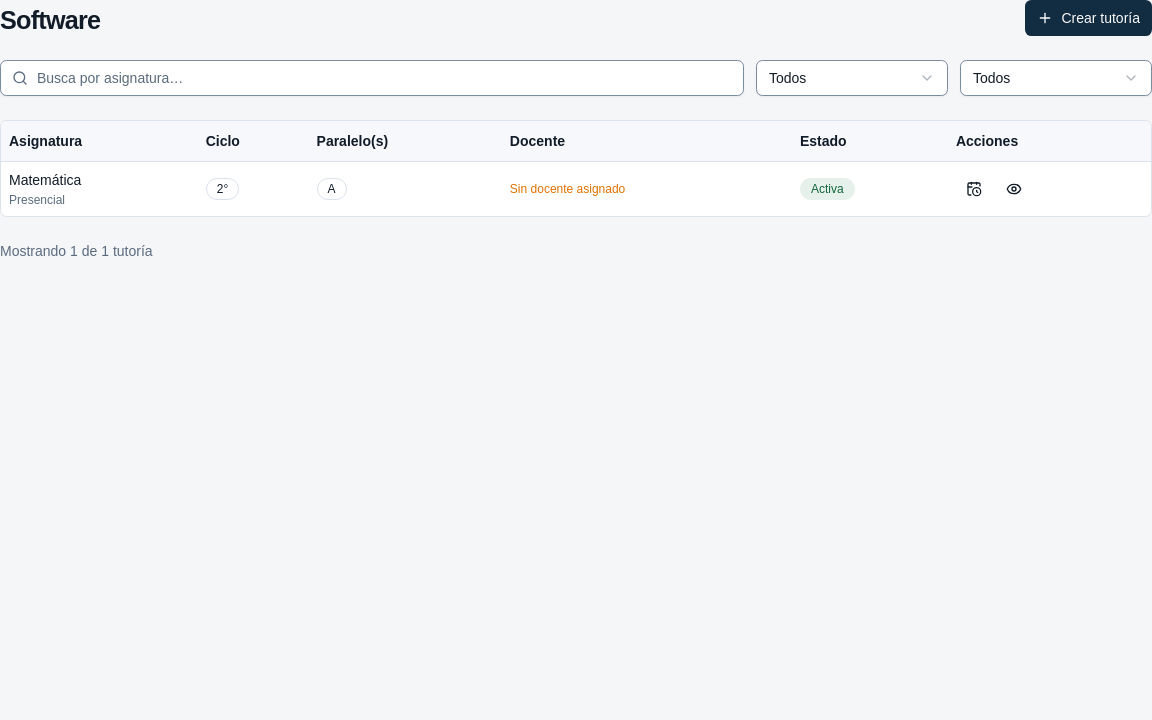
Test: Coordinación de tutorías › filtra tutorías por ciclo y estado, y abre el detalle al supervisar
Check: the text "Matemática" is shown, box [9, 172, 81, 188]
Click the dropdown named "Filtrar por Ciclo".
click(852, 78)  # box [756, 60, 948, 96]
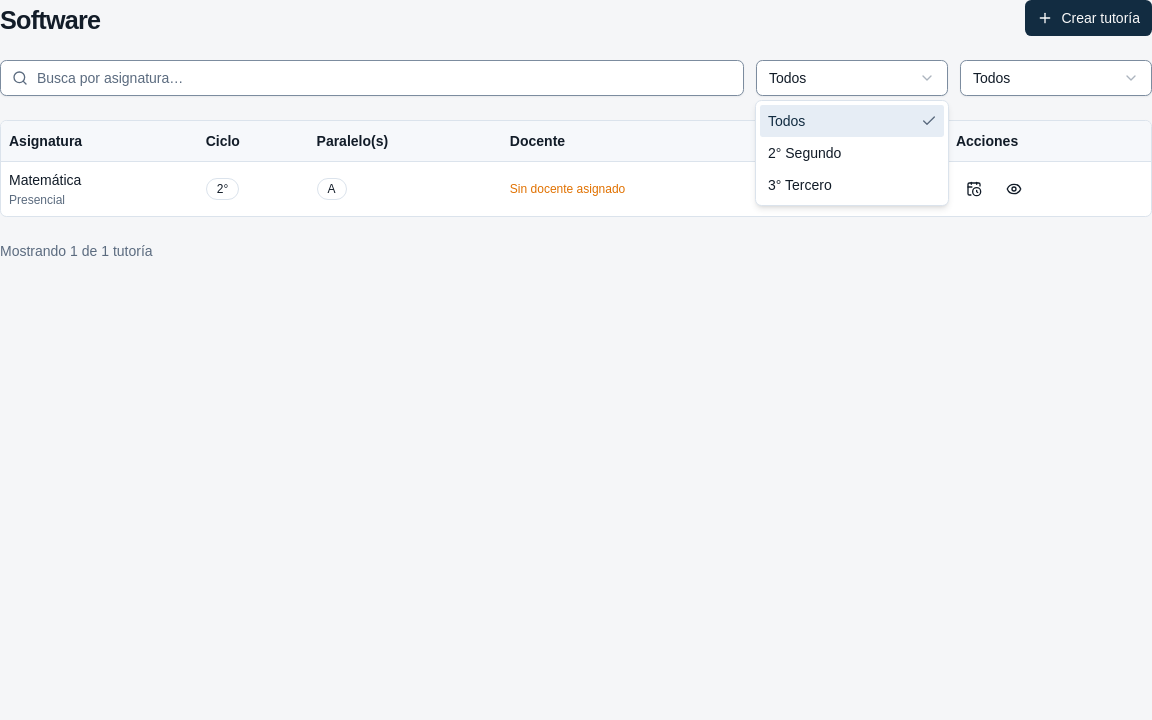
Click the option "2° Segundo".
click(805, 153)  # box [768, 145, 841, 161]
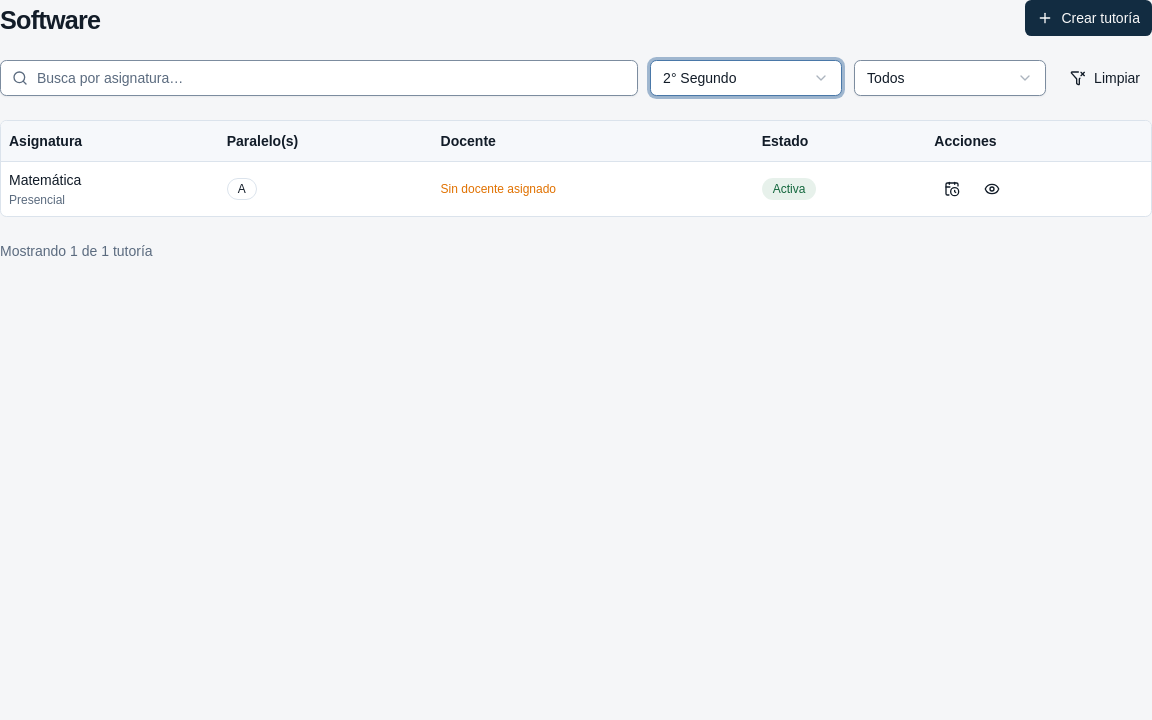
Click the dropdown named "Filtrar por Estado".
click(950, 78)  # box [854, 60, 1046, 96]
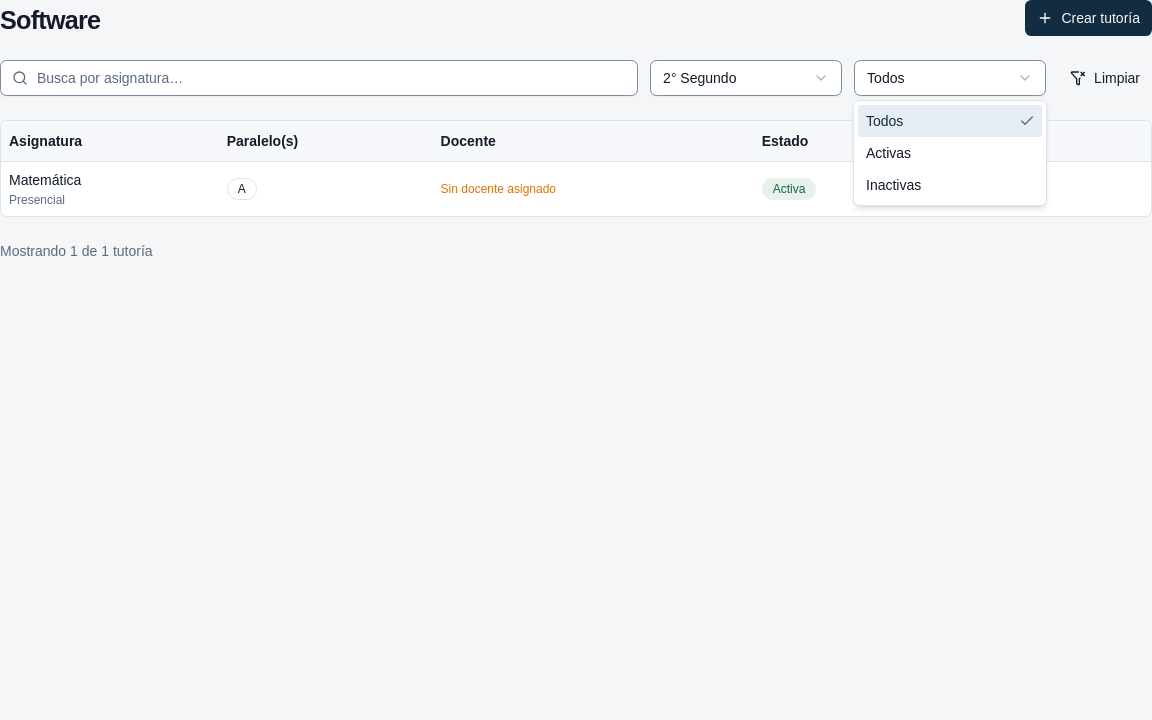
Click the option "Inactivas".
click(894, 185)  # box [866, 177, 921, 193]
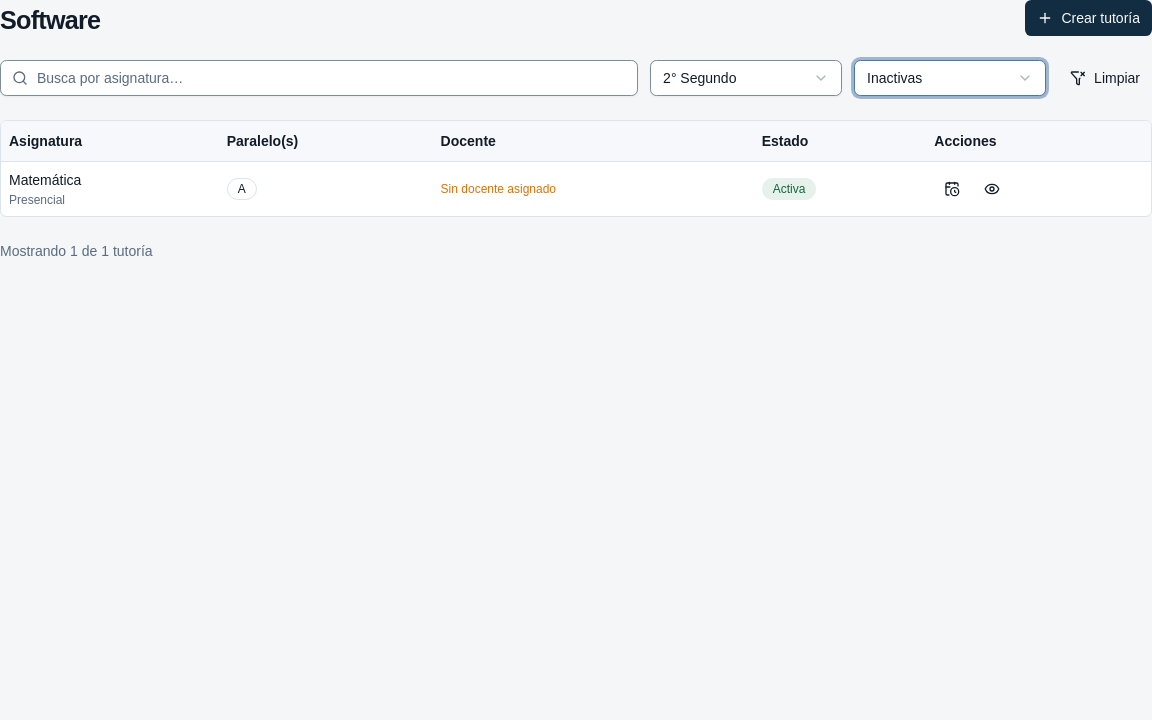
Click the button "Limpiar".
click(1105, 78)  # box [1058, 60, 1151, 96]
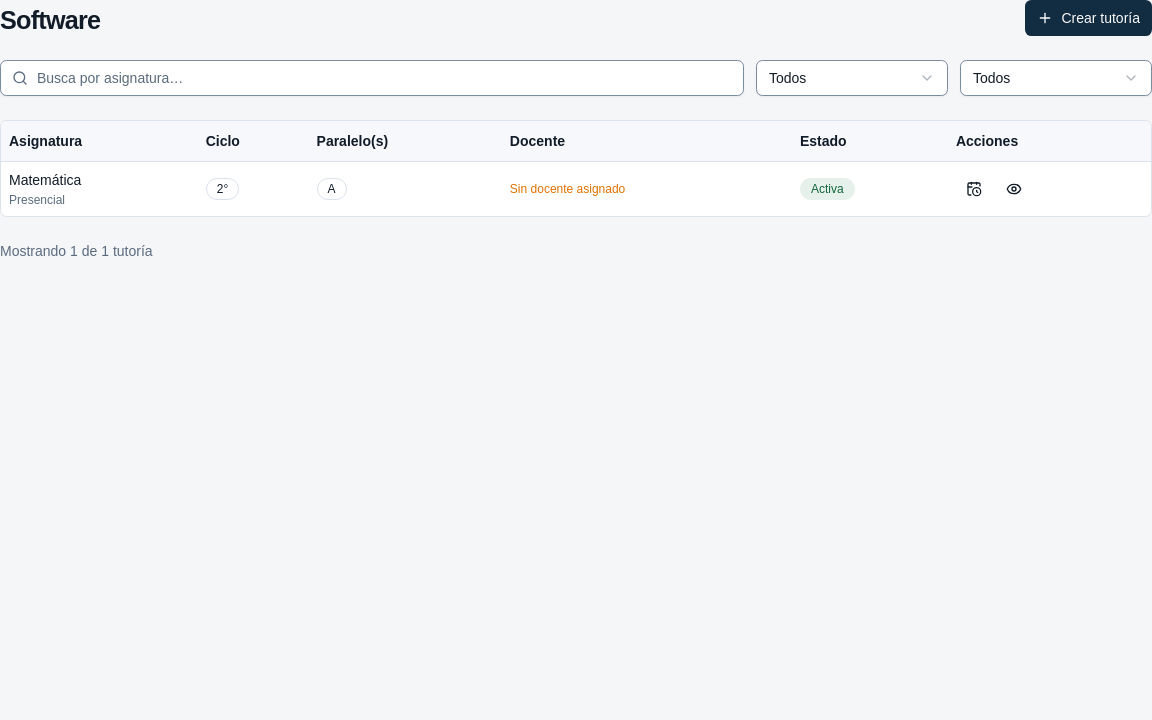
Click the button named "Supervisar Matemática".
click(1014, 188)  # box [996, 170, 1032, 206]
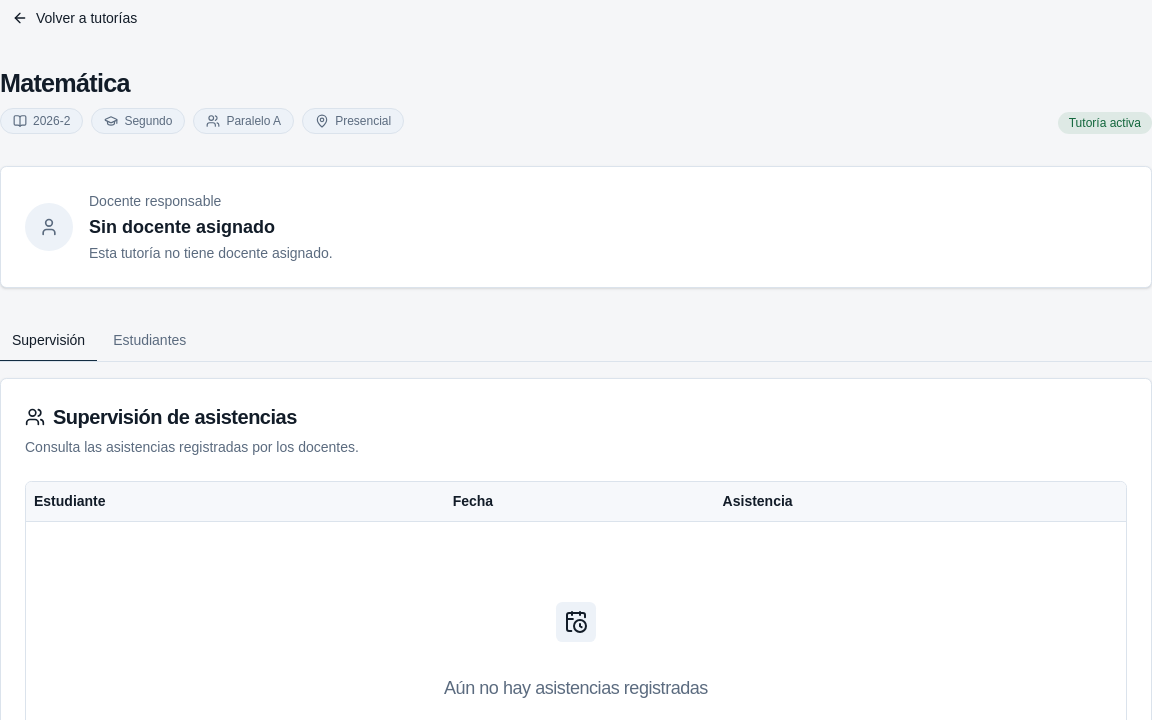
Check: the button "Volver a tutorías" is shown, box [0, 0, 149, 36]
Check: the text "Docente responsable" is shown, box [89, 192, 221, 208]
Check: the heading "Supervisión de asistencias" is shown, box [25, 406, 297, 428]
